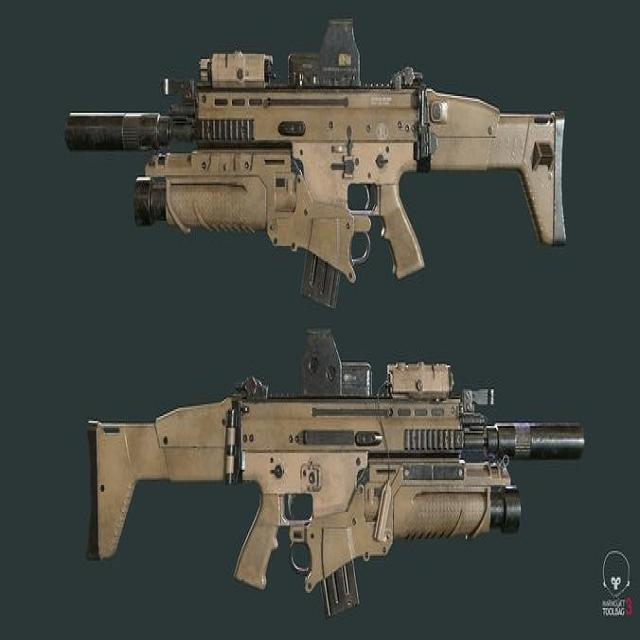Rifle: (64, 20, 568, 312), (88, 328, 584, 616)
